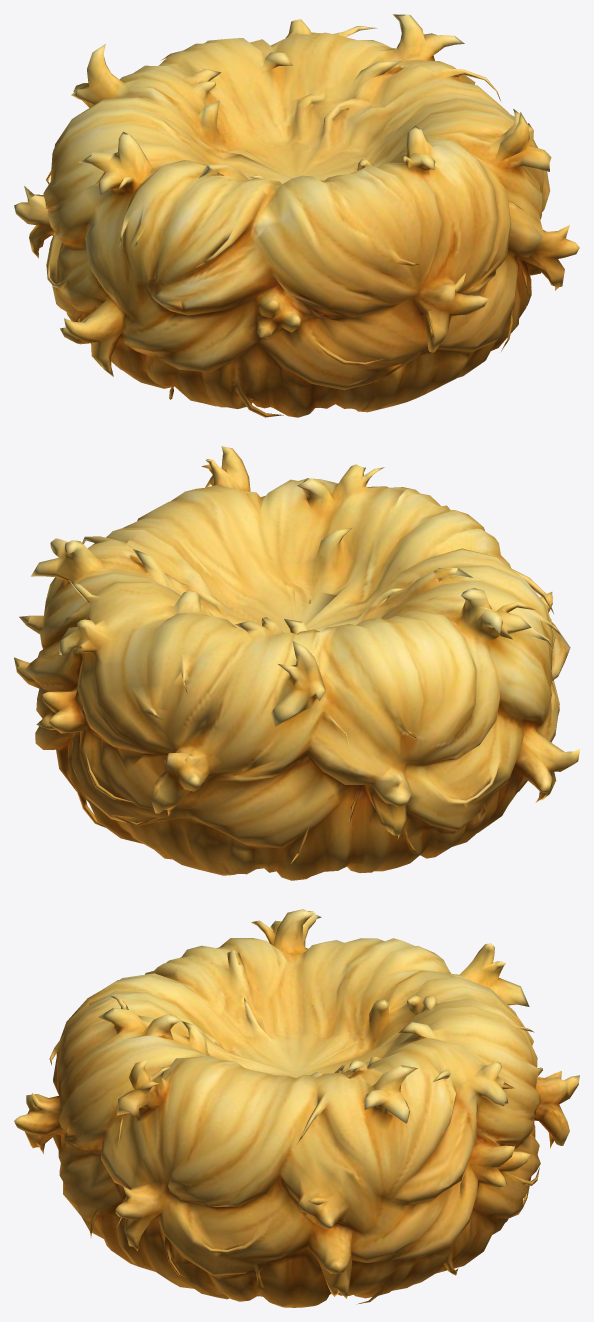
Rendered from haystack.glb.
3 views of the same model, one above another, from view 1: azimuth 30°, elevation 25°; view 2: azimuth 150°, elevation 25°; view 3: azimuth 270°, elevation 25° (orthographic). The views are drawn at different scales.
Visible parts, largest first — view 1: tripo_node_ed99669d-c3be-47ba-912f-4eb5f4f8a335; view 2: tripo_node_ed99669d-c3be-47ba-912f-4eb5f4f8a335; view 3: tripo_node_ed99669d-c3be-47ba-912f-4eb5f4f8a335.
Boxes of the visible parts, box(x1,y1,x2,y2) form: tripo_node_ed99669d-c3be-47ba-912f-4eb5f4f8a335: box(14, 14, 579, 417); tripo_node_ed99669d-c3be-47ba-912f-4eb5f4f8a335: box(14, 446, 579, 880); tripo_node_ed99669d-c3be-47ba-912f-4eb5f4f8a335: box(14, 909, 579, 1307).
Bounding box in the file's own units: 0.9883 × 0.4816 × 0.9805.
1 material, 1 textured.
